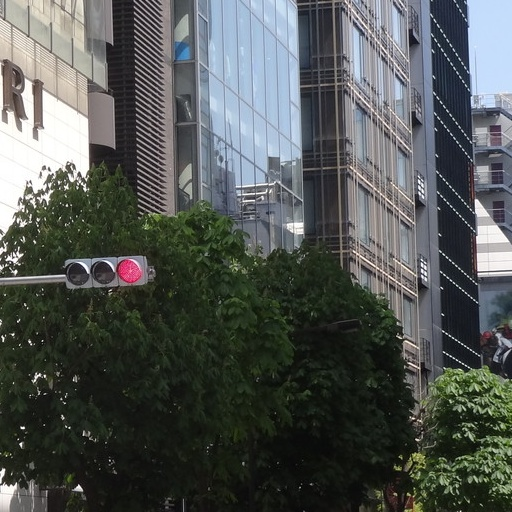Traffic_Signal_Red: (58, 241, 157, 294)
